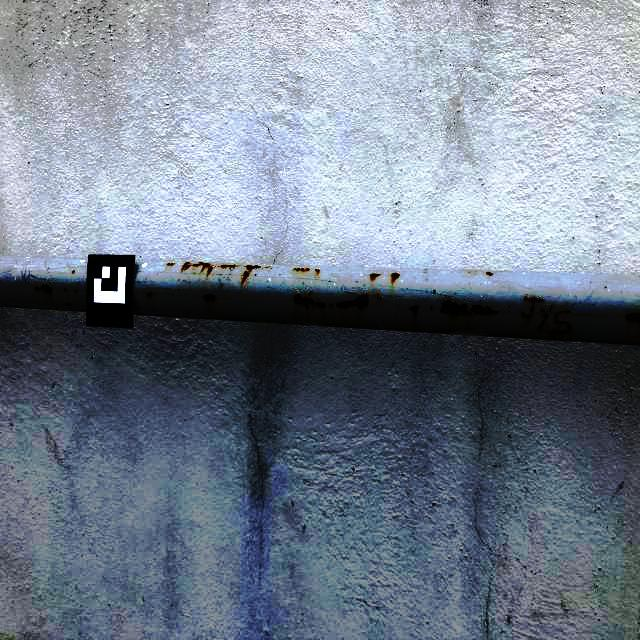Corrosion: (439, 299, 499, 317), (546, 309, 572, 336), (336, 293, 370, 312), (180, 261, 215, 279), (293, 291, 327, 309), (520, 296, 544, 320), (537, 307, 549, 331), (625, 311, 640, 325), (202, 293, 217, 303), (40, 283, 53, 294), (241, 271, 249, 285), (409, 304, 420, 314), (391, 272, 400, 284), (145, 291, 160, 298), (245, 265, 262, 271), (370, 273, 381, 281), (293, 268, 310, 272), (32, 285, 41, 292), (377, 294, 382, 303), (548, 304, 553, 313), (221, 265, 236, 268), (486, 271, 493, 276), (63, 287, 68, 293), (73, 289, 78, 295), (167, 263, 176, 266), (315, 268, 320, 272), (330, 303, 334, 307), (430, 305, 433, 310), (433, 289, 436, 294), (72, 270, 75, 274), (66, 302, 69, 306), (265, 266, 268, 269), (508, 304, 510, 308), (506, 312, 511, 313), (399, 305, 400, 309), (382, 322, 384, 324), (390, 322, 391, 324), (71, 304, 72, 306)
